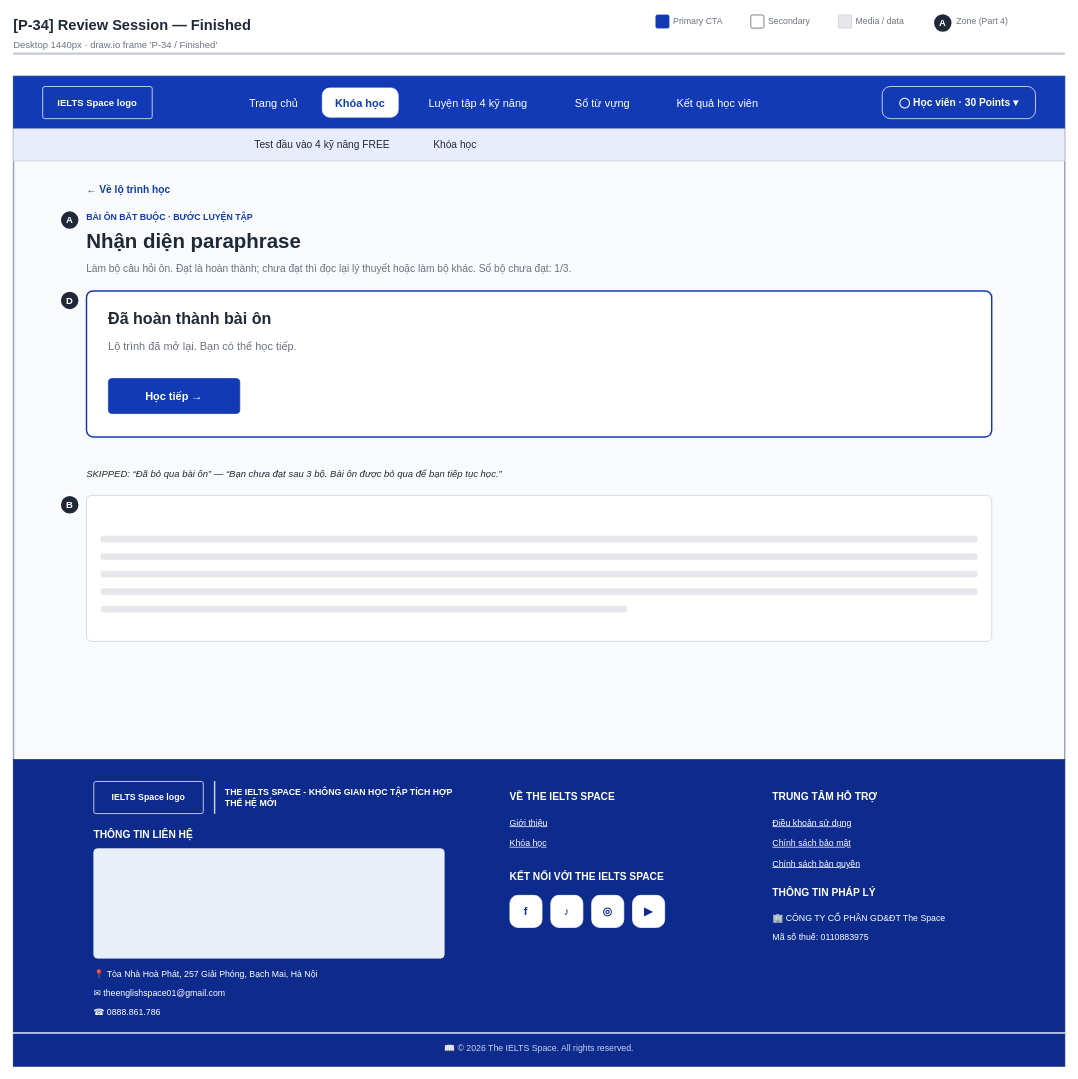
Some shapes in this 1078 by 1079 pixel diagram are drawn without their labels. The shapes that lost their labels are listed below. From the top down, each one's centre as x and y in pixels, then its label:
point (539, 568): 📘 Lý thuyết cần nhớ
point (268, 903): 📍 The IELTS Space Mở trong Maps ↗
